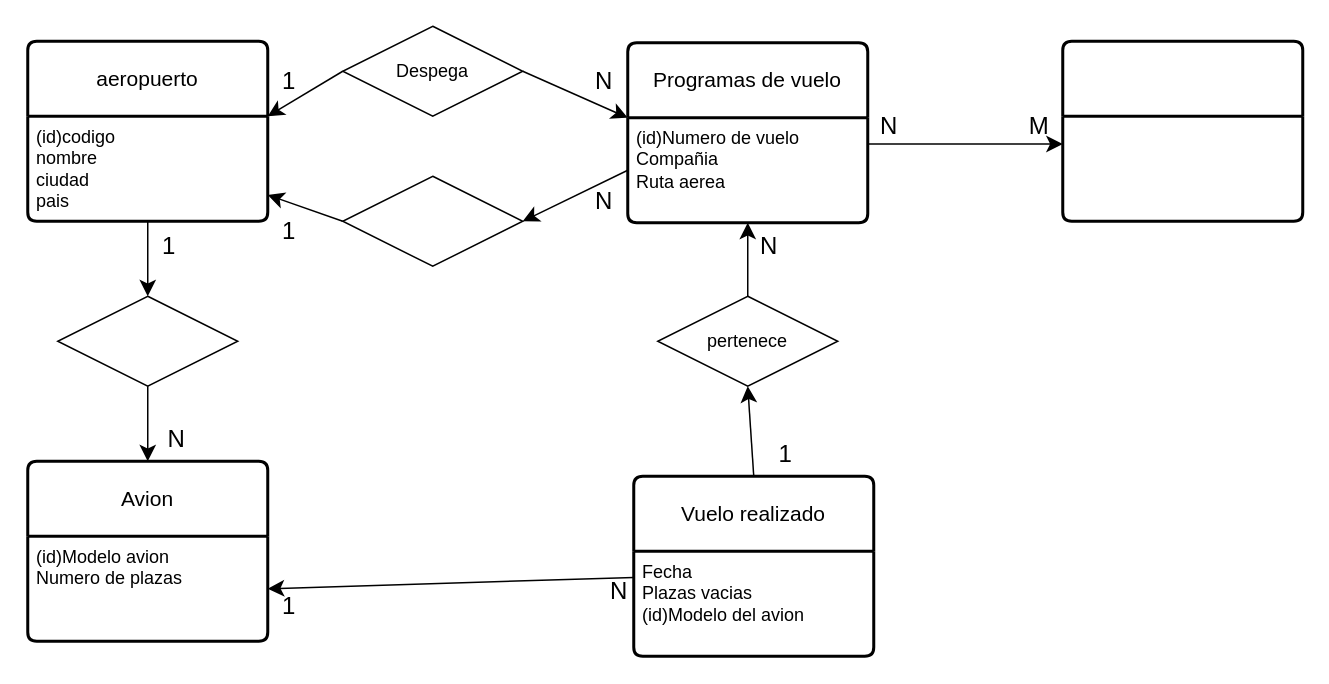
Some shapes in this 1329 by 684 pixel diagram are drawn without their labels. Here are the shapes that lost their labels. From the top down, the centre of each, then its label:
[1182,130]: Dias de existencias
[432,220]: Aterriza
[147,340]: aterrizan
